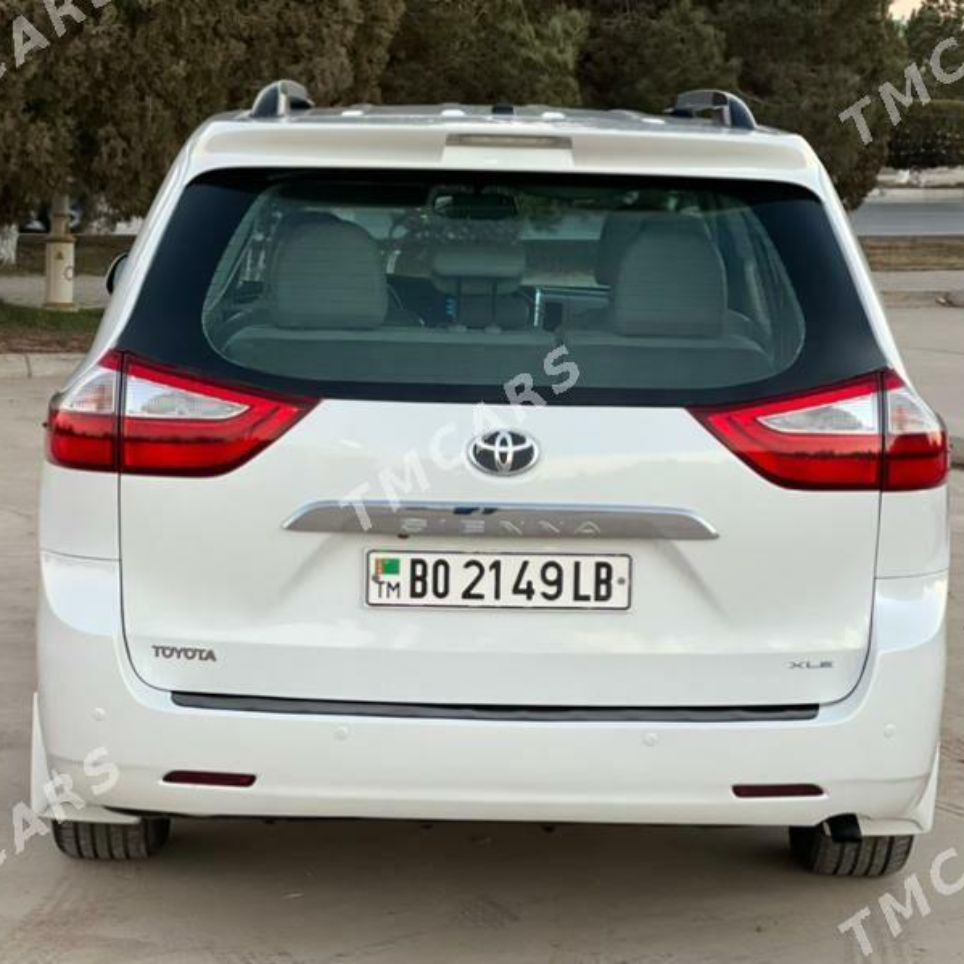license plate: (368, 550, 632, 608)
truck: (29, 80, 943, 881)
